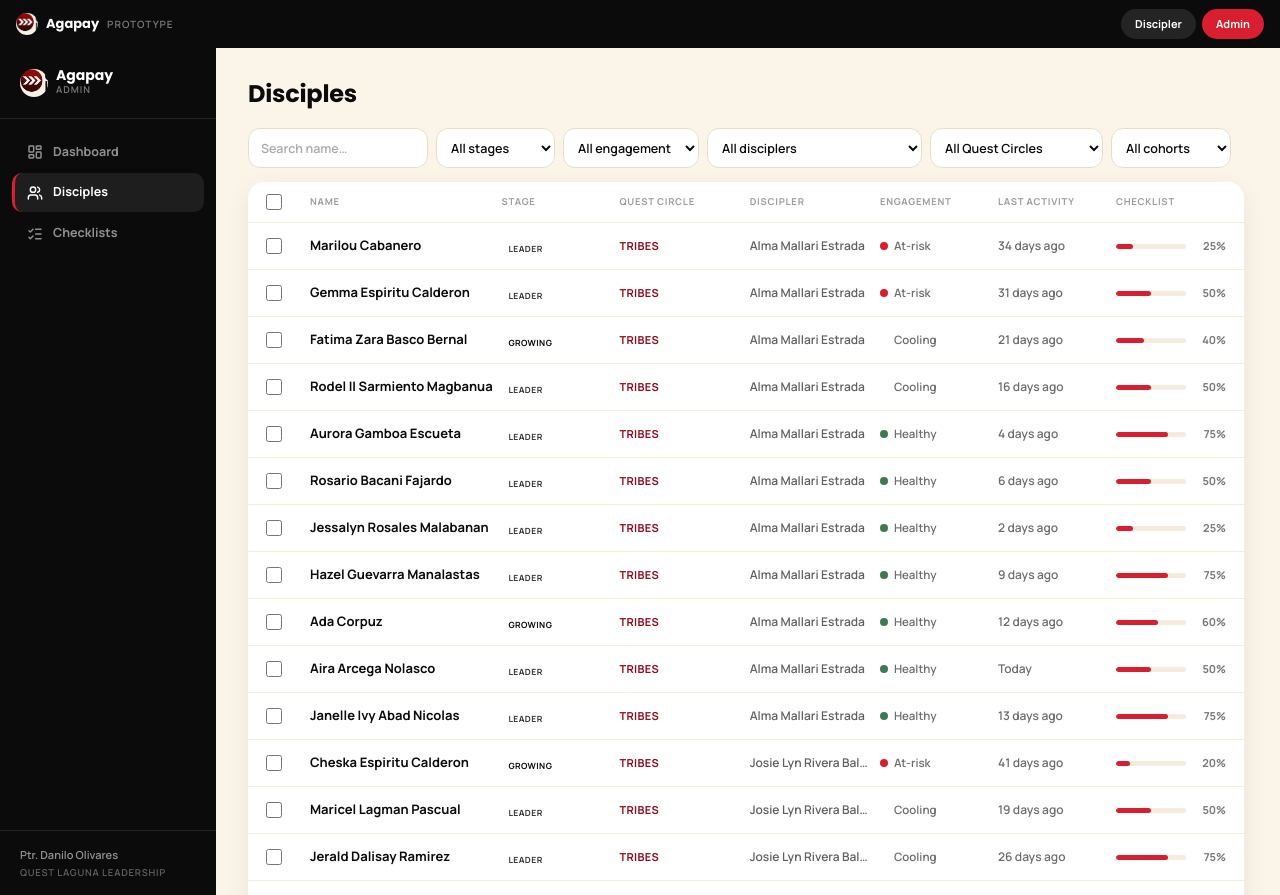
admin Disciples bulk reassign (demo) › starts on the placeholder and keeps Apply off until a discipler is chosen
The width and height of the screenshot is (1280, 895).
Expected: the checkbox named "Select page" is shown, [266,194,282,210]
Click the checkbox named "Select Marilou Cabanero". click: (274, 246)
box: [266,238,282,254]
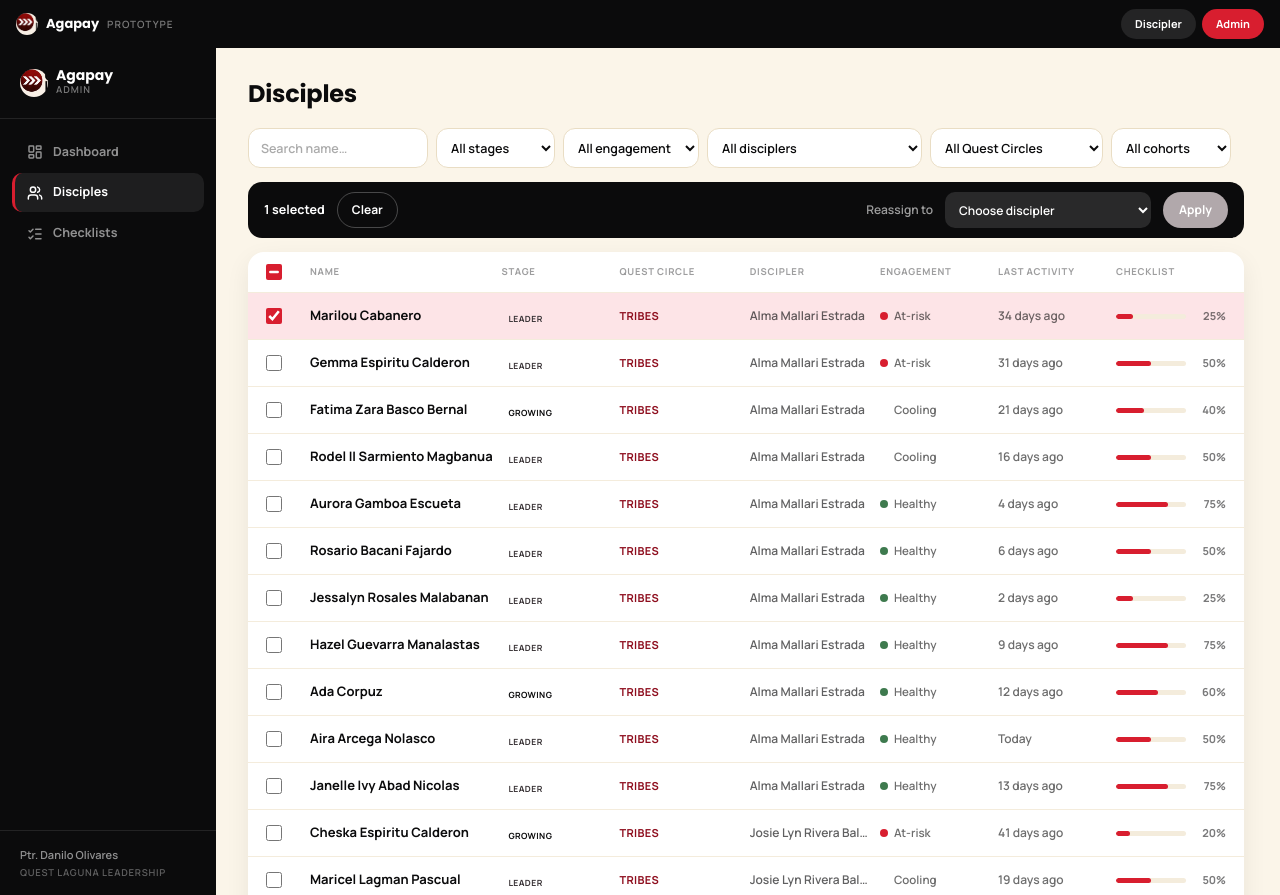
Now the text "1 selected" is shown, box [264,201,325,219]
Now the dropdown named "Reassign to" shows "Choose discipler"
Now the button "Apply" is disabled, box [1163,192,1228,228]
Select "Alma Mallari Estrada" in the dropdown named "Reassign to". click: (1048, 210)
box: [945,192,1151,228]
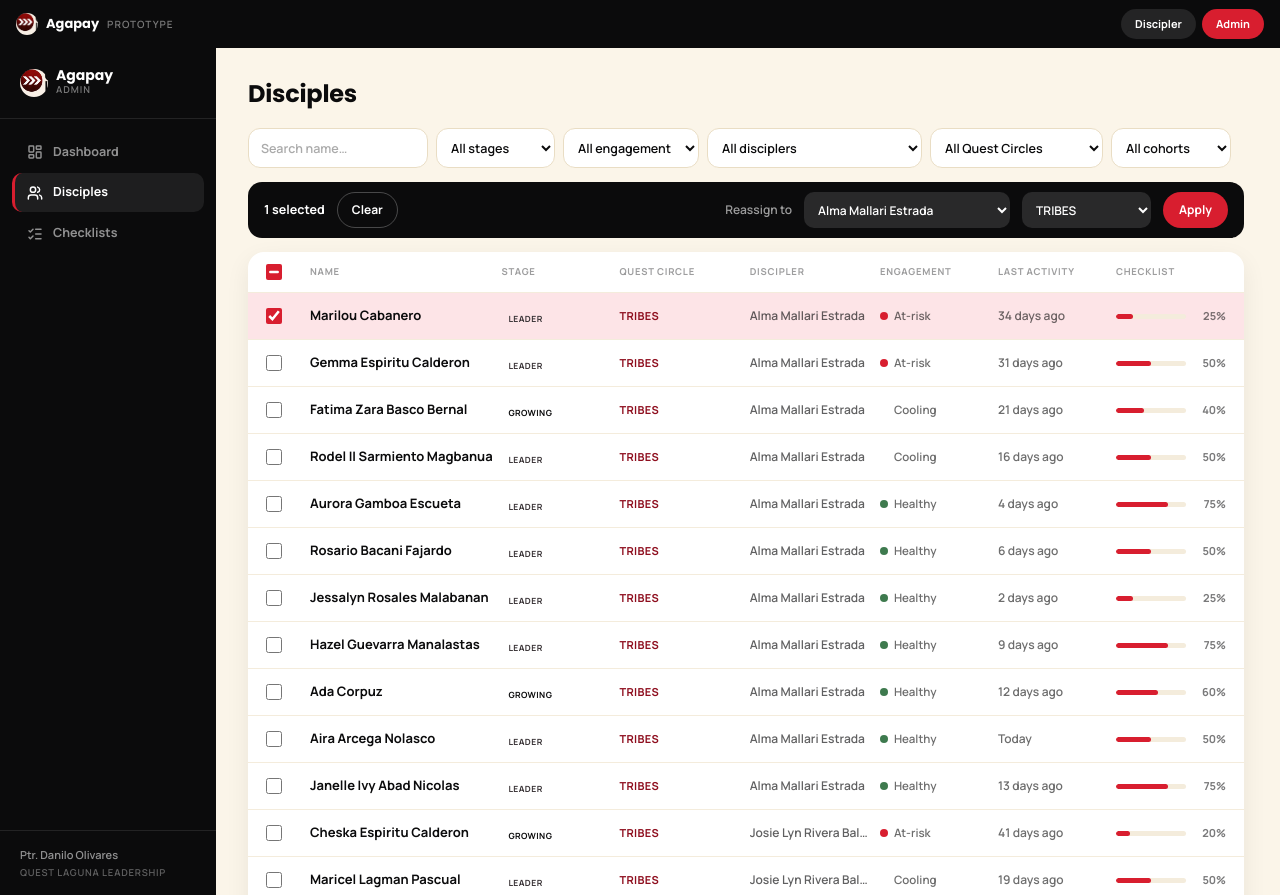
Now the button "Apply" is enabled, box [1163,192,1228,228]
